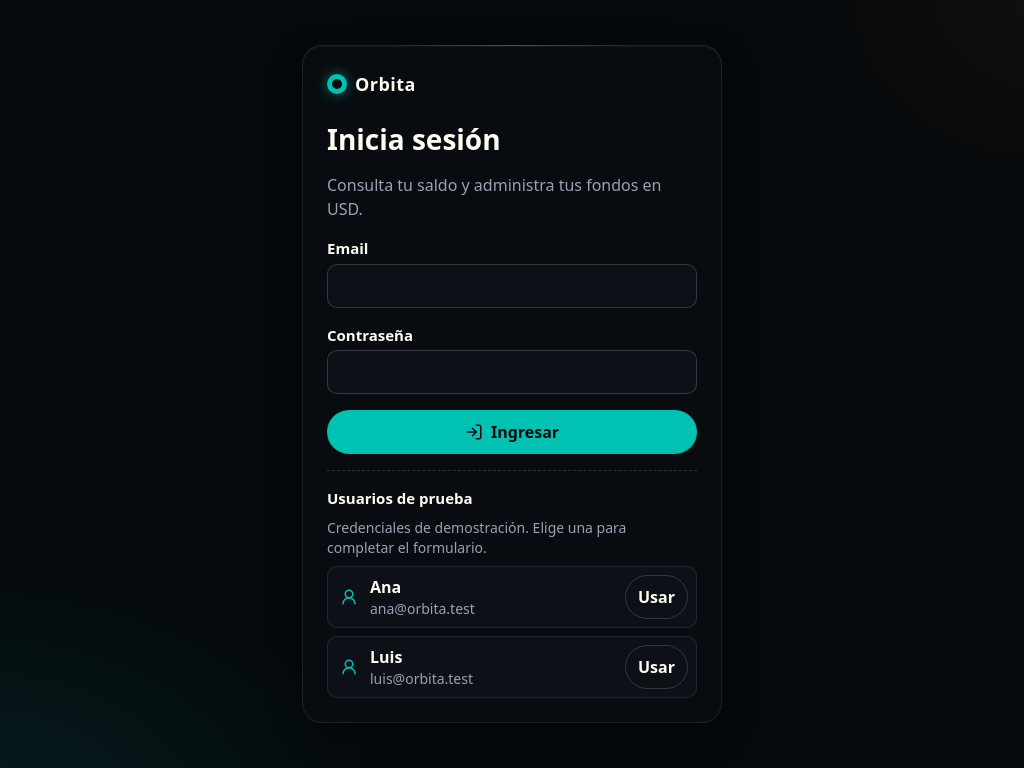
demo users › clears previous validation errors when credentials are loaded
Click the button "Ingresar": (512, 432) x1=327 y1=410 x2=697 y2=454
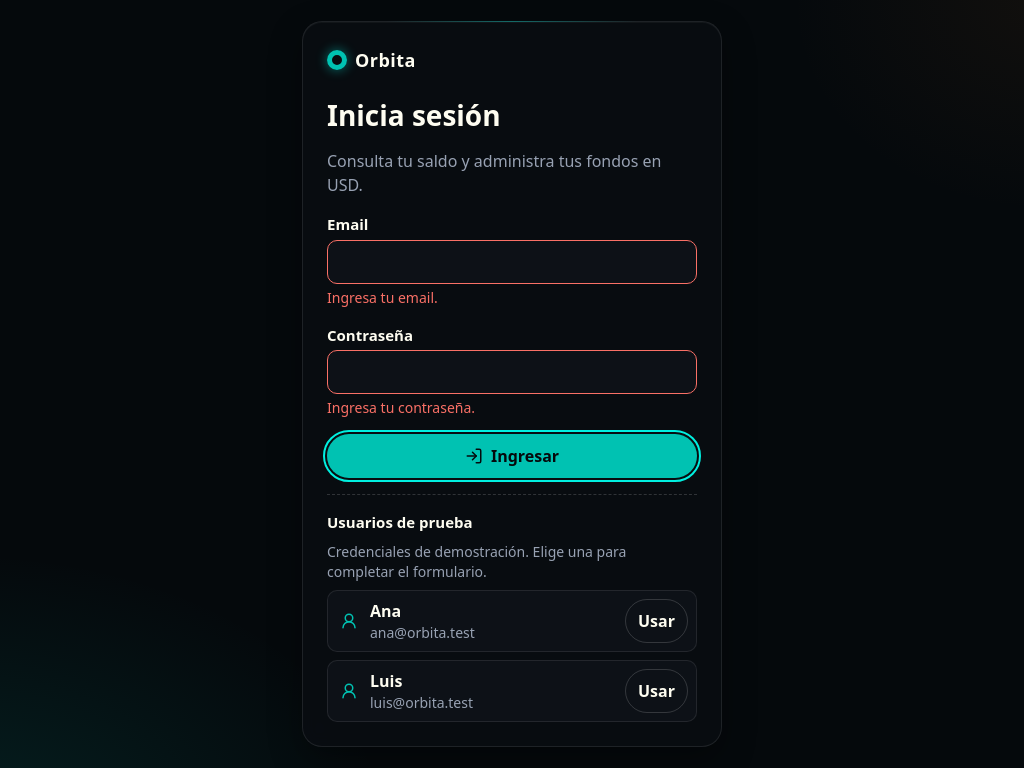
Now the text "Ingresa tu email." is shown, box x1=327 y1=288 x2=438 y2=307
Click the button with aria-label "Usar credenciales de prueba de Ana": (656, 621) x1=625 y1=599 x2=688 y2=643
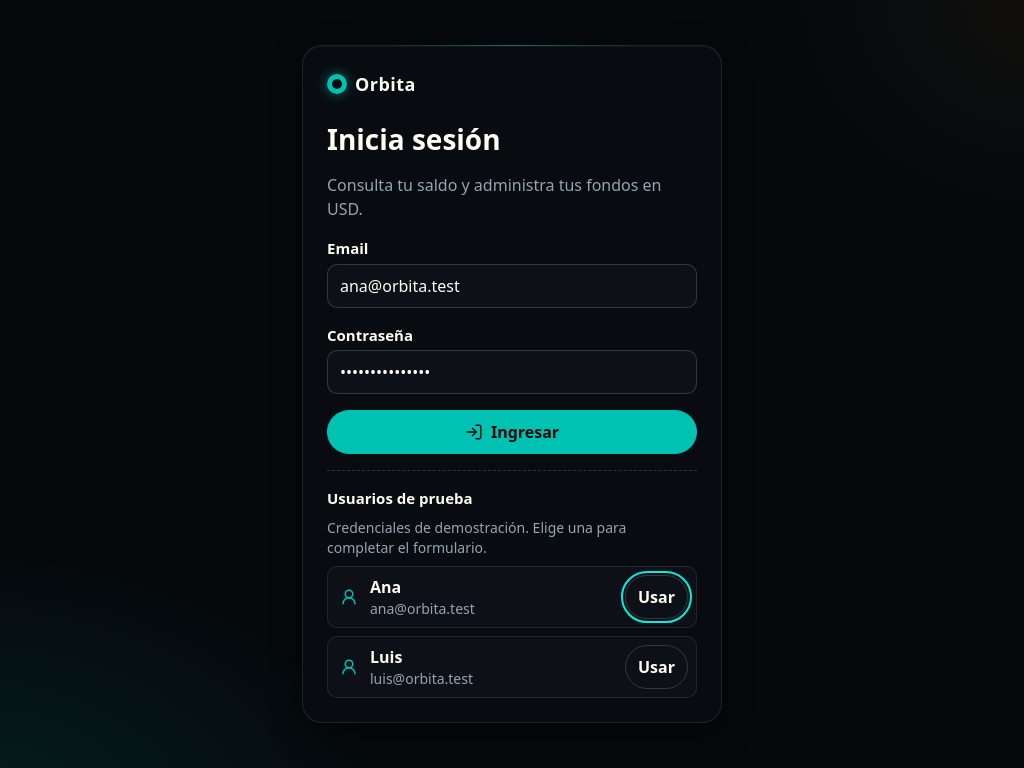
Now the text "Ingresa tu email." is gone
Now the field labelled "Email" holds "ana@orbita.test", box x1=327 y1=264 x2=697 y2=308
